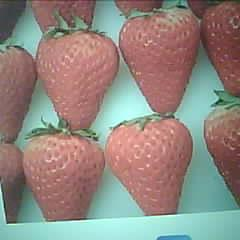straw-ripe: (119, 10, 200, 114), (105, 117, 190, 216), (38, 34, 117, 134), (25, 135, 104, 222)
